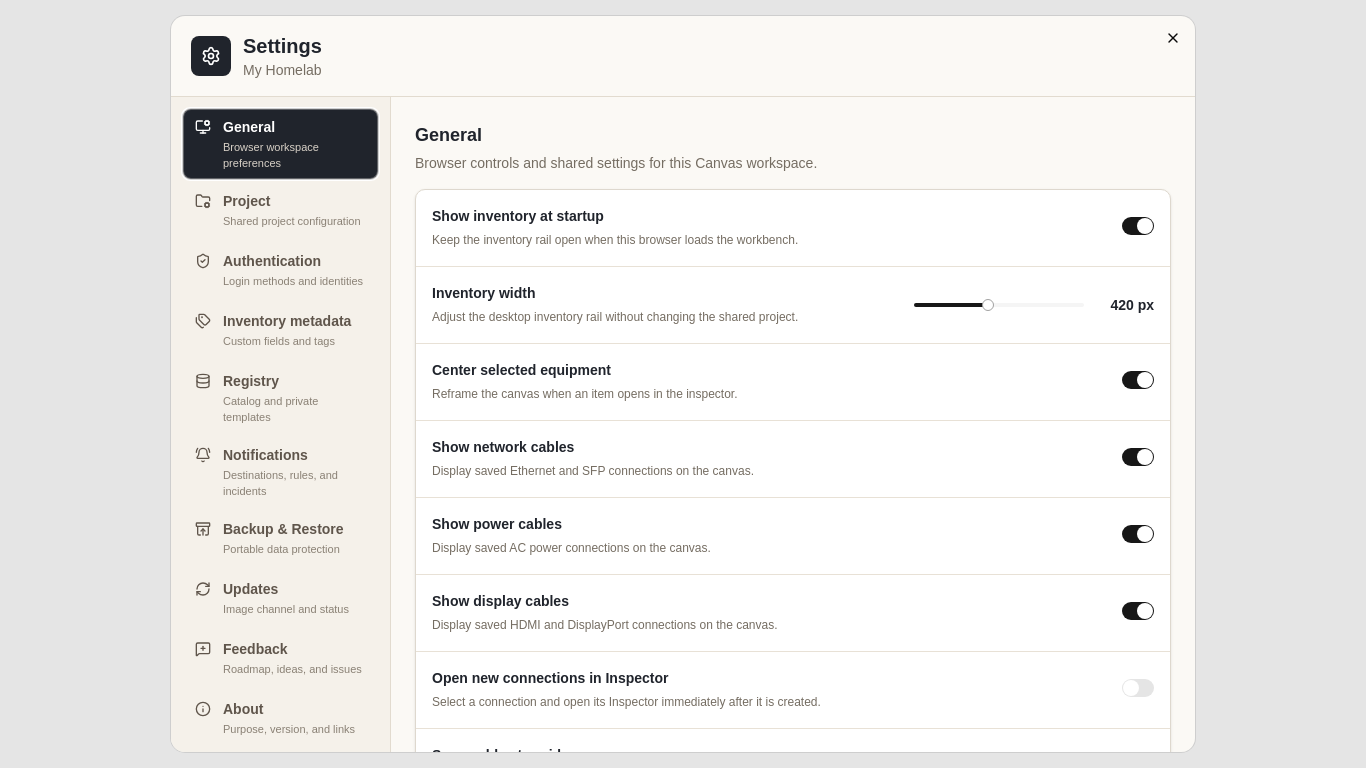
it: SettingsDialog › renders the public demo registry policy as read-only while keeping refresh available
Click the button "Registry Catalog and private templates": (280, 398) [183,363,378,433]
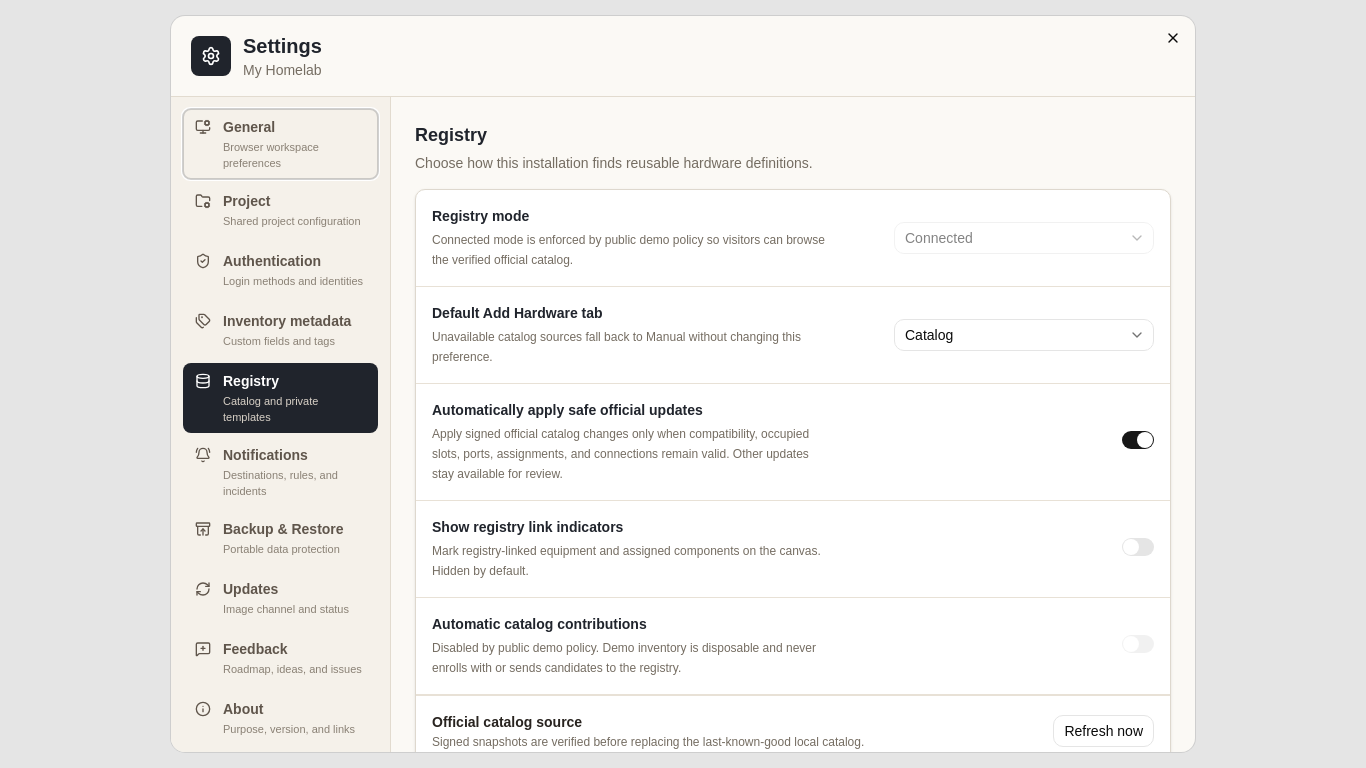
Result: the dropdown named "Registry mode" is disabled at [894,222,1154,254]
Result: the dropdown named "Registry mode" reads "Connected" at [894,222,1154,254]
Result: the button "Refresh now" is enabled at [1053,715,1154,747]
